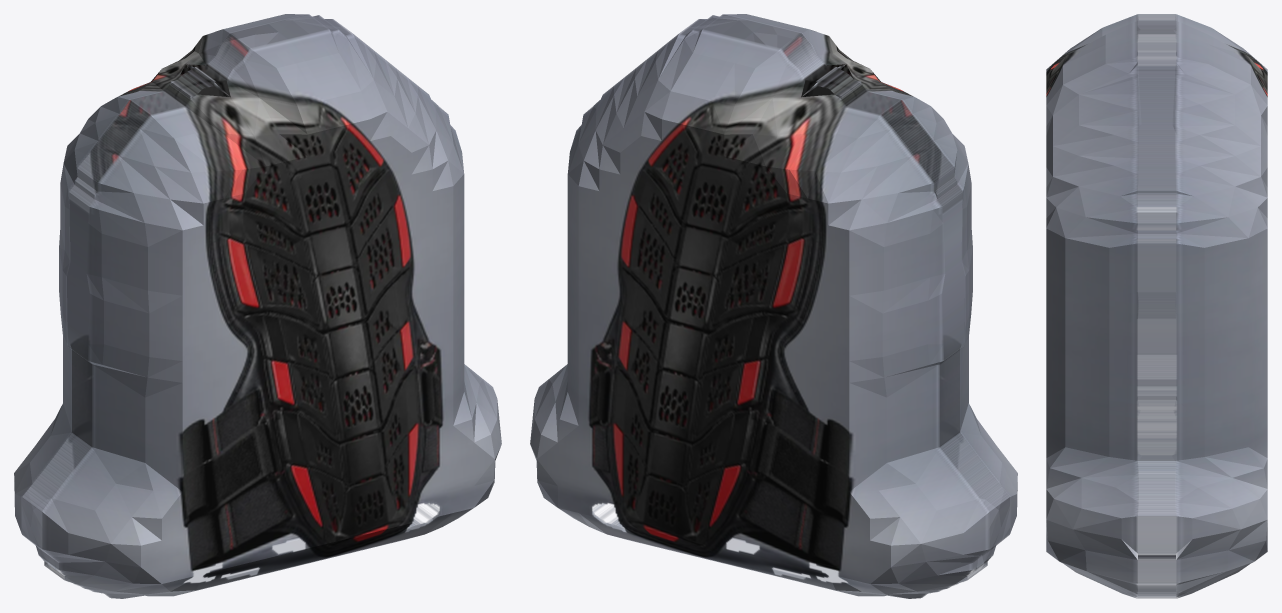
File: forma-horizon-back-protector-150.glb
3 views of the same model, side by side, from view 1: azimuth 30°, elevation 25°; view 2: azimuth 150°, elevation 25°; view 3: azimuth 270°, elevation 25° (orthographic). The views are drawn at different scales.
Visible parts, largest first — view 1: world; view 2: world; view 3: world.
Part boxes in pixels (<box>): world: <box>14,14,501,598</box>; world: <box>530,14,1017,598</box>; world: <box>1046,14,1267,598</box>.
Bounding box in the file's own units: 0.9028 × 1 × 0.4.
1 material, 1 textured.
